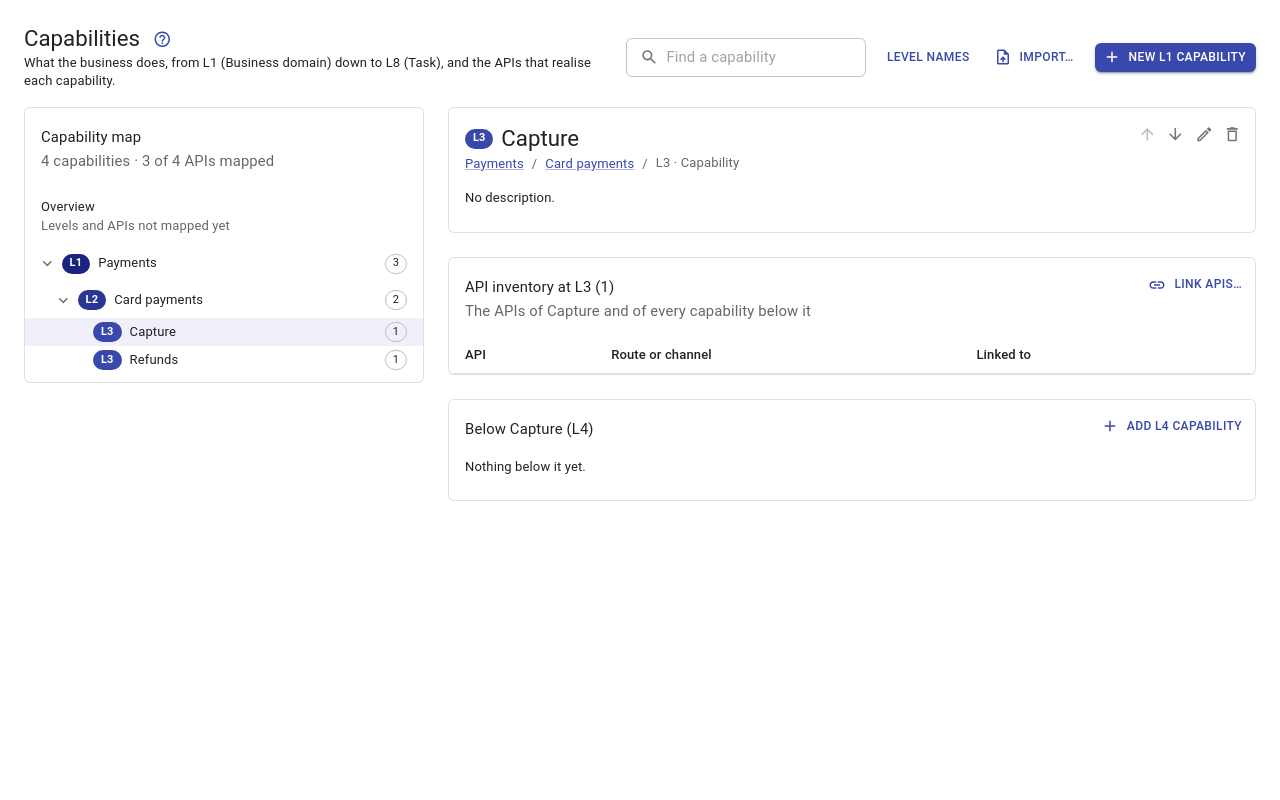
Test: Capabilities › creates a capability below the selected one, at the next level
Later steps or results of the test are not shown.
What coordinates should you click on to do the following:
click the button "Add L4 capability"
I would click on:
 (1172, 426)
Its box is [1098,412,1247,441].
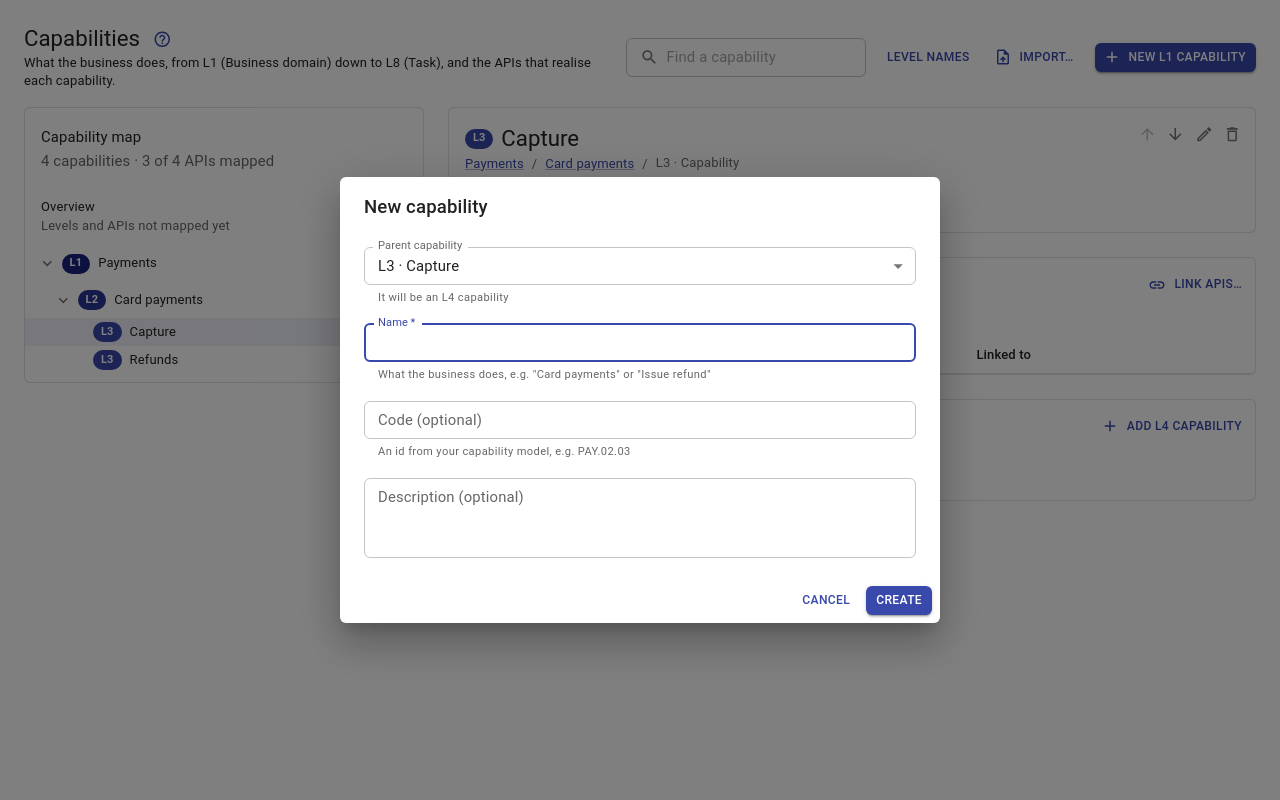
Expected: the text "It will be an L4 capability" is shown, [378,291,509,304]
